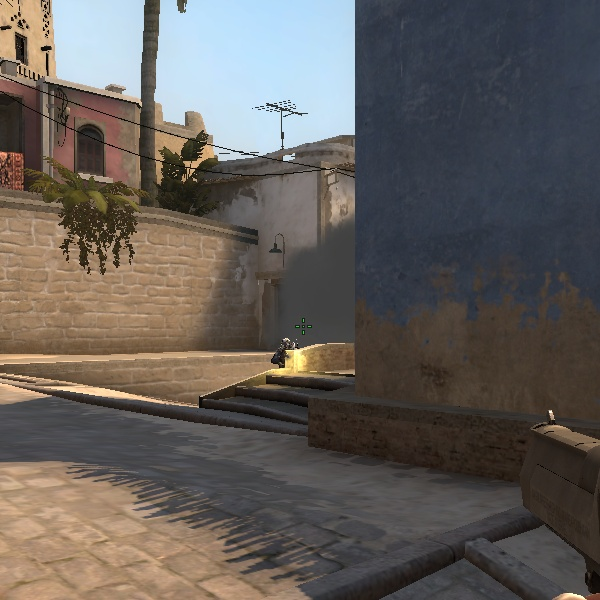ct_body: (267, 338, 302, 375)
ct_head: (276, 335, 297, 356)
